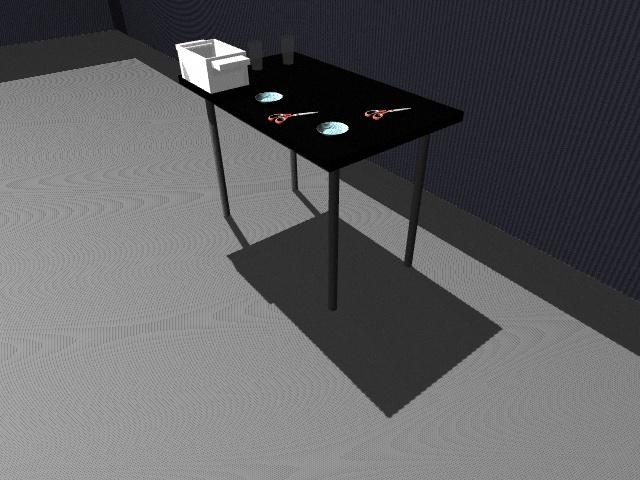cup: (247, 39, 264, 70), (280, 35, 295, 65)
plate: (316, 121, 349, 135), (255, 91, 283, 103)
scissors: (268, 109, 318, 124), (365, 108, 409, 120)
